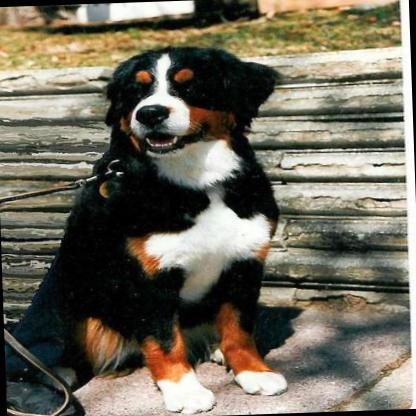Bernese_mountain_dog: (0, 40, 291, 416)
